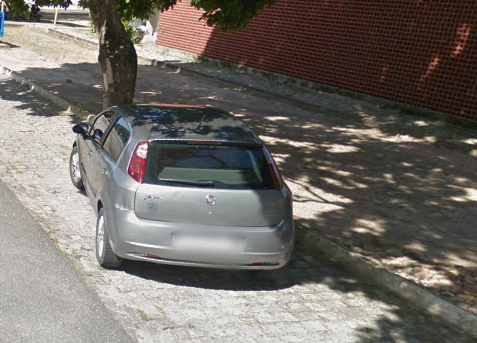car: (65, 91, 297, 289)
